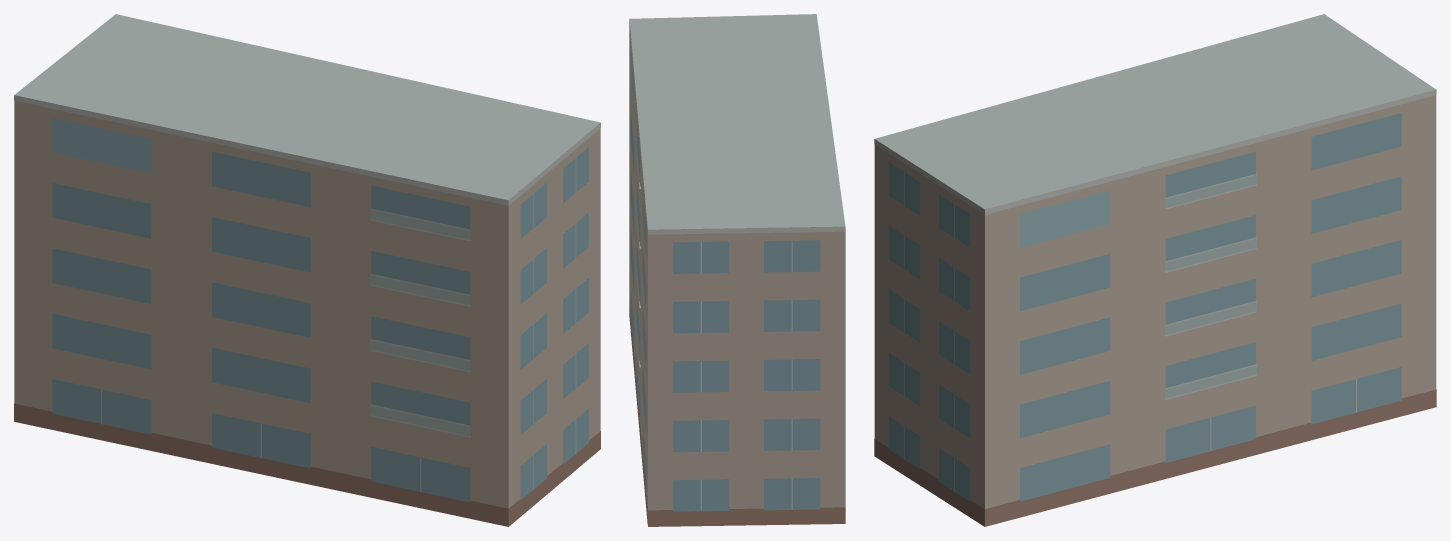
File: survey-upis-32914366.glb
3 renders of one model, left to right at view 1: azimuth 30°, elevation 25°; view 2: azimuth 150°, elevation 25°; view 3: azimuth 270°, elevation 25°, orthographic. The views are drawn at different scales.
Parts seen in each view (by area): view 1: survey-upis-32914366.tmp; view 2: survey-upis-32914366.tmp; view 3: survey-upis-32914366.tmp.
Boxes of the visible parts, x1,y1,x2,y2 form: survey-upis-32914366.tmp: (14, 14, 600, 526); survey-upis-32914366.tmp: (629, 14, 845, 526); survey-upis-32914366.tmp: (874, 14, 1436, 526).
Size of the model in its own units: 18.89 by 14.3 by 22.95.
